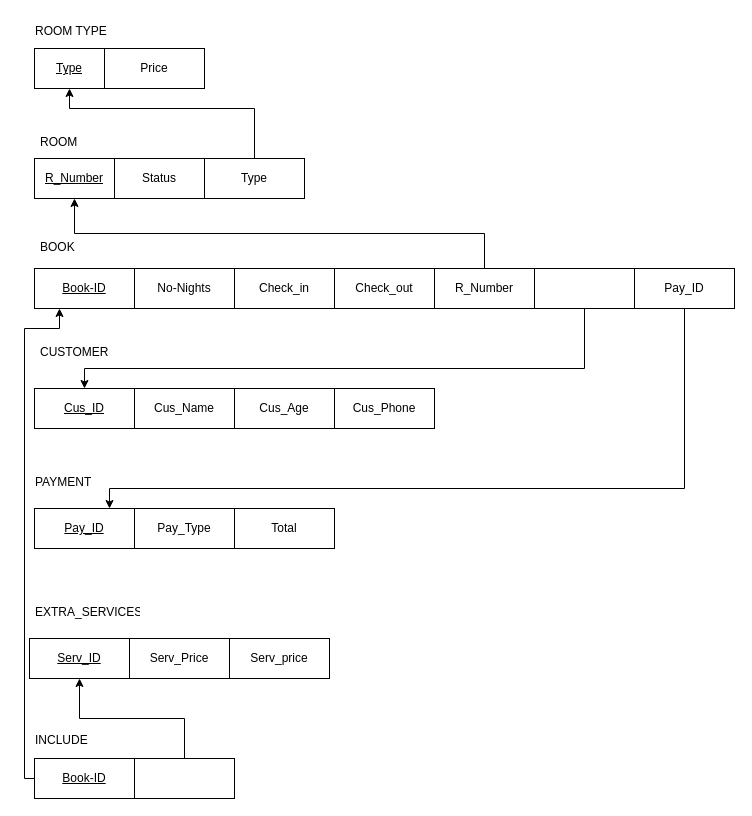
Image size: 752x816. Some labels were removed from this diagram. Each missing label, with the centre of its shape:
"Cus-ID" belongs at [584,288].
"Sev-Type" belongs at [184,778].
